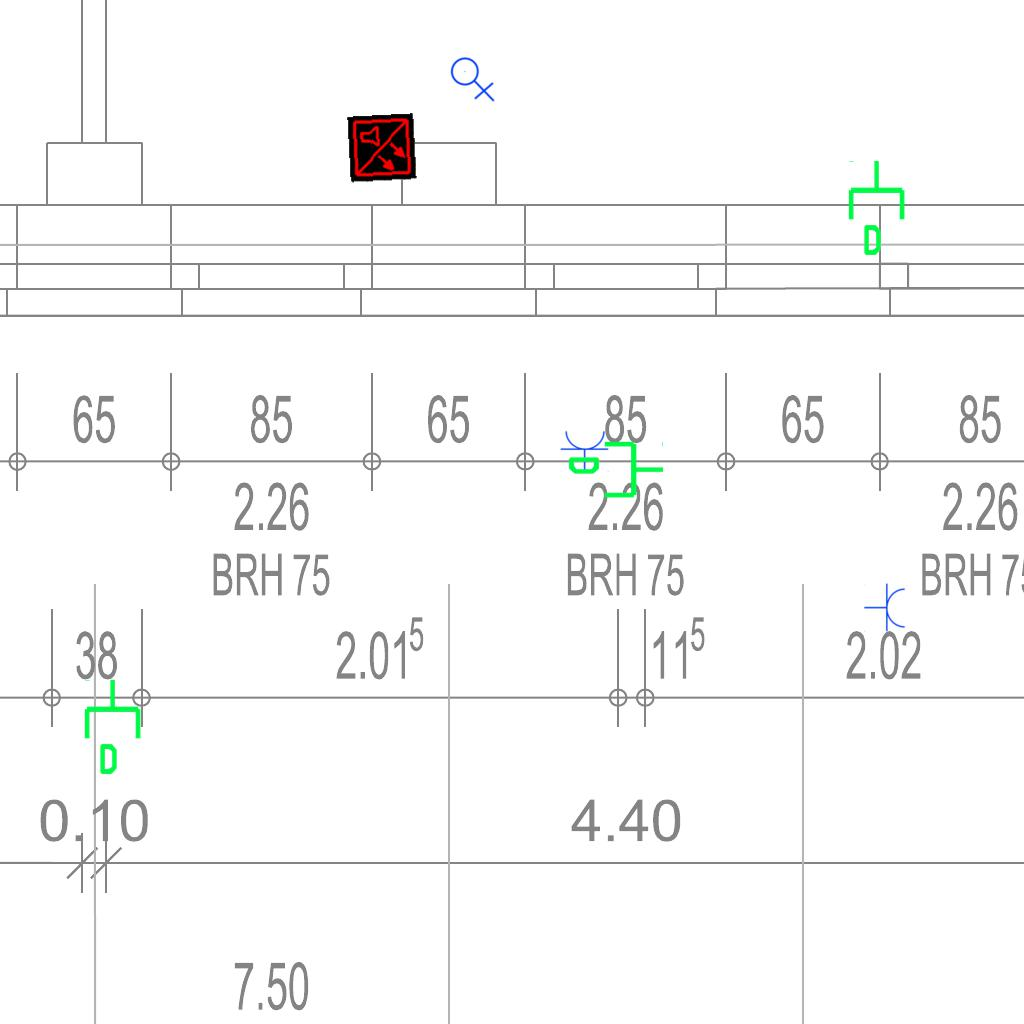Datenanschluss_einfach: (844, 158, 913, 258), (80, 677, 149, 777), (566, 437, 666, 506)
Elektroanschluss_allgemein_230V_Geraeteanschlussdose_230V: (450, 53, 497, 102)
OKW_Multisensormelder_(Kombination_optischer_Rauch-Kahlenmonoxid_Waerme-Melder): (347, 113, 417, 183)
Schukosteckdose_einfach: (560, 429, 610, 472), (864, 583, 907, 633)
